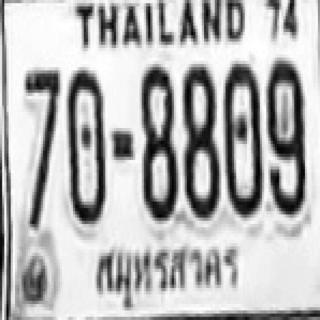N00: (68, 67, 106, 224), (223, 61, 260, 214)
N07: (25, 67, 61, 224)
N08: (141, 64, 177, 218), (183, 61, 217, 218)
N09: (266, 58, 305, 214)
P58: (86, 238, 243, 311)
